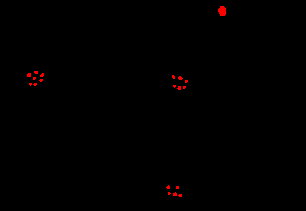Target: (218, 6, 226, 16), (178, 76, 183, 80), (27, 73, 31, 77), (40, 73, 44, 77), (177, 86, 181, 90), (166, 185, 170, 189), (173, 192, 177, 196), (34, 71, 38, 74), (172, 75, 175, 79), (39, 79, 43, 82), (33, 83, 37, 86), (178, 194, 182, 197), (33, 77, 36, 80), (185, 80, 188, 83), (29, 83, 32, 86), (173, 85, 176, 88), (183, 86, 186, 89), (176, 186, 179, 189), (168, 192, 171, 195)
